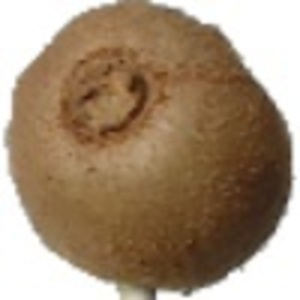kiwi: (4, 1, 295, 300)
